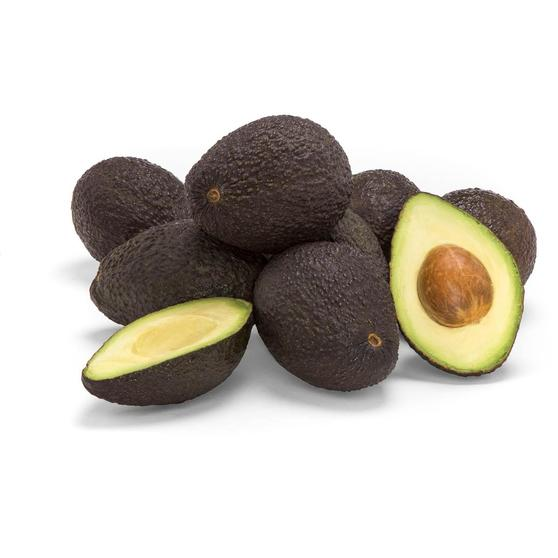avocado: (257, 239, 402, 397), (177, 111, 353, 237), (69, 155, 192, 264)
